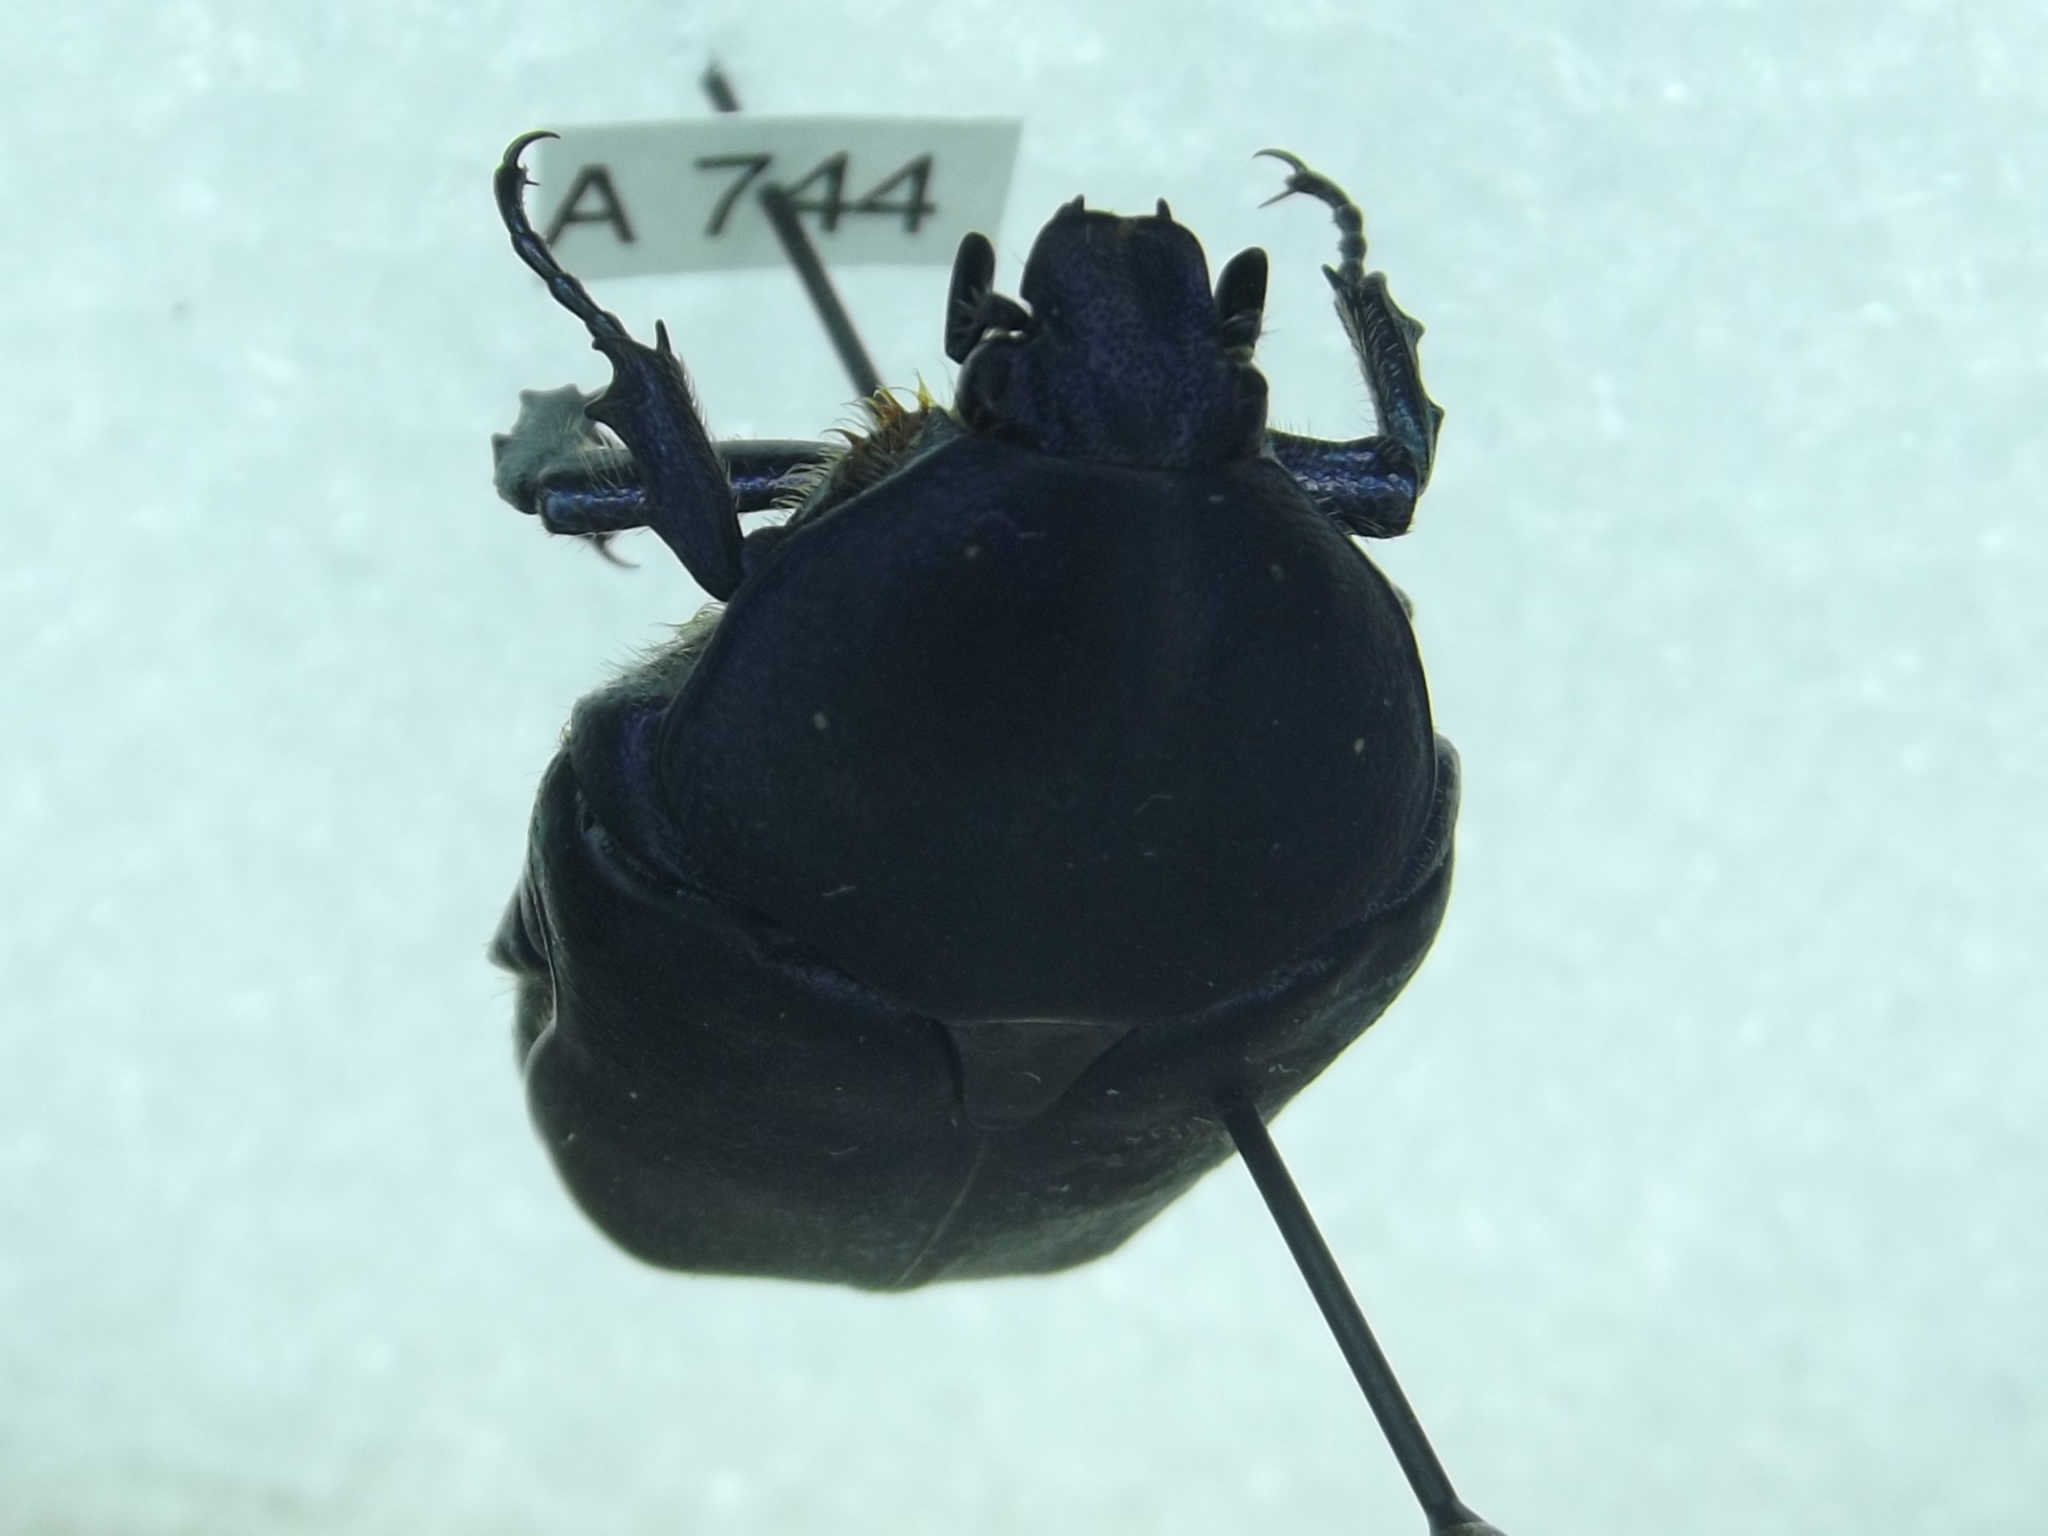Protaetia_afflicta: (447, 115, 1472, 1300)
